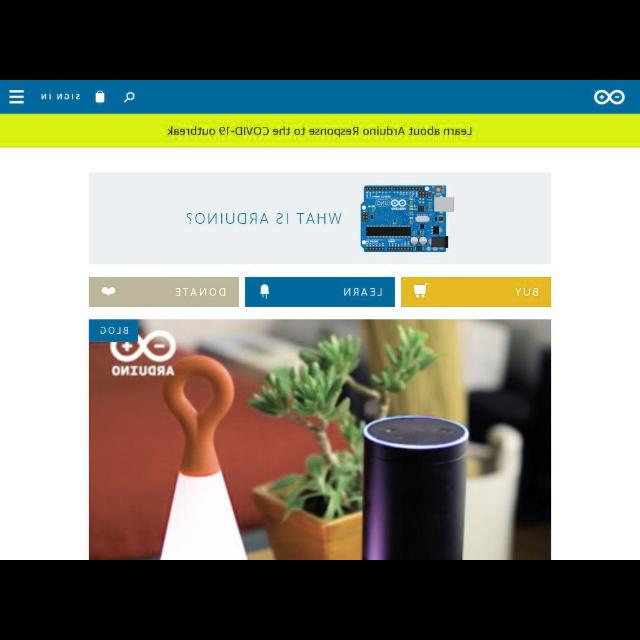icon: (8, 88, 24, 104), (412, 282, 428, 298), (259, 282, 271, 300), (100, 285, 116, 297), (123, 90, 135, 104), (94, 90, 106, 102)
image: (89, 319, 552, 559), (88, 172, 552, 264), (595, 88, 625, 105)
text: (166, 126, 474, 138), (173, 286, 227, 298), (342, 286, 383, 298), (38, 92, 82, 100), (515, 286, 539, 298)
textbutton: (401, 277, 552, 307)
toolbar: (2, 81, 640, 112)
